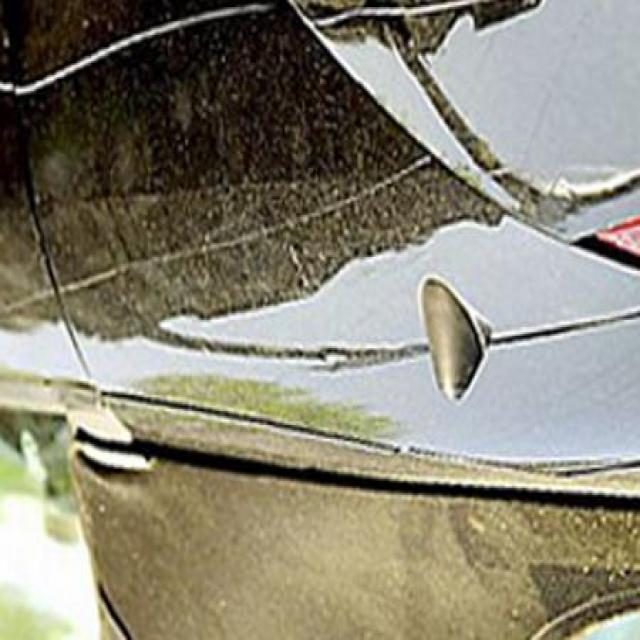scratch: (0, 0, 292, 107)
